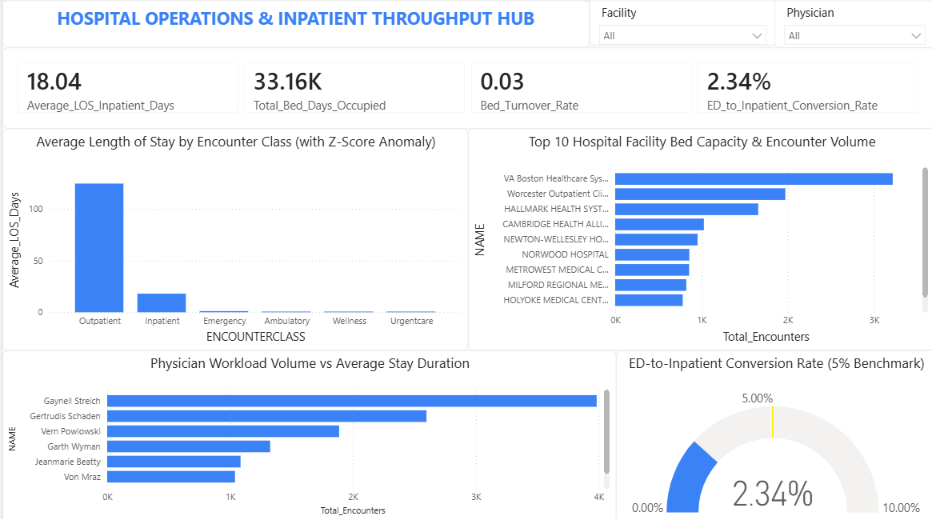

What the dashboard file says about the page in this screenshot:
{"tool":"powerbi","page":{"name":"Hospital Operations (COO)","canvas":[1280,720],"ordinal":2},"visuals":[{"type":"cardVisual","fields":{"Data":["_Measures.Average_LOS_Inpatient_Days","_Measures.Total_Bed_Days_Occupied","_Measures.Bed_Turnover_Rate","_Measures.ED_to_Inpatient_Conversion_Rate"]},"box":[0,68.6,1278.9,111.1],"z":0},{"type":"clusteredColumnChart","title":"Average Length of Stay by Encounter Class (with Z-Score Anomaly)","fields":{"Category":["Fact_Encounters.ENCOUNTERCLASS"],"Y":["_Measures.Average_LOS_Days"]},"box":[0,179.8,639.5,304.6],"z":1000},{"type":"clusteredBarChart","title":"Top 10 Hospital Facility Bed Capacity & Encounter Volume","fields":{"Category":["Dim_Organizations.NAME"],"Y":["_Measures.Total_Encounters"]},"box":[640,180,640,304],"z":2000},{"type":"clusteredBarChart","title":"Physician Workload Volume vs Average Stay Duration","fields":{"Category":["Dim_Providers.NAME"],"Y":["_Measures.Total_Encounters"]},"box":[0,484.4,842.5,236],"z":3000},{"type":"gauge","title":"ED-to-Inpatient Conversion Rate (5% Benchmark)","fields":{"Y":["_Measures.ED_to_Inpatient_Conversion_Rate"]},"box":[842,484,438,236],"z":4000},{"type":"slicer","fields":{"Values":["Dim_Organizations.NAME"]},"box":[805.5,0,256.6,65.9],"z":5000},{"type":"slicer","fields":{"Values":["Dim_Providers.NAME"]},"box":[1059.4,0,220.9,68.6],"z":6000},{"type":"textbox","box":[0,2.7,805.5,65.9],"z":7000}]}

Visuals, with their boxes in screenshot pixels (x1, y1, x2, y2), scaled from the page's 1280x720 canvas onto the 932x519 screenshot:
cardVisual - _Measures.Average_LOS_Inpatient_Days x _Measures.Total_Bed_Days_Occupied: <bbox>0, 49, 931, 130</bbox>
"Average Length of Stay by Encounter Class (with Z-Score Anomaly)" clusteredColumnChart: <bbox>0, 130, 466, 349</bbox>
"Top 10 Hospital Facility Bed Capacity & Encounter Volume" clusteredBarChart: <bbox>466, 130, 931, 349</bbox>
"Physician Workload Volume vs Average Stay Duration" clusteredBarChart: <bbox>0, 349, 613, 518</bbox>
"ED-to-Inpatient Conversion Rate (5% Benchmark)" gauge: <bbox>613, 349, 931, 518</bbox>
slicer - Dim_Organizations.NAME: <bbox>587, 0, 773, 48</bbox>
slicer - Dim_Providers.NAME: <bbox>771, 0, 931, 49</bbox>
textbox: <bbox>0, 2, 587, 49</bbox>
